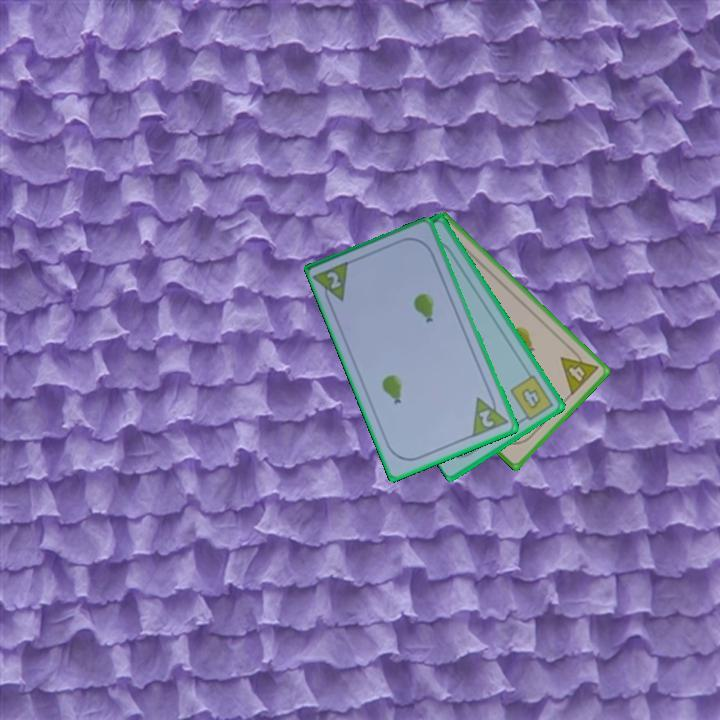2p: (469, 389, 512, 440), (323, 268, 345, 292)
4b: (506, 371, 556, 425)
4p: (557, 344, 602, 398)
